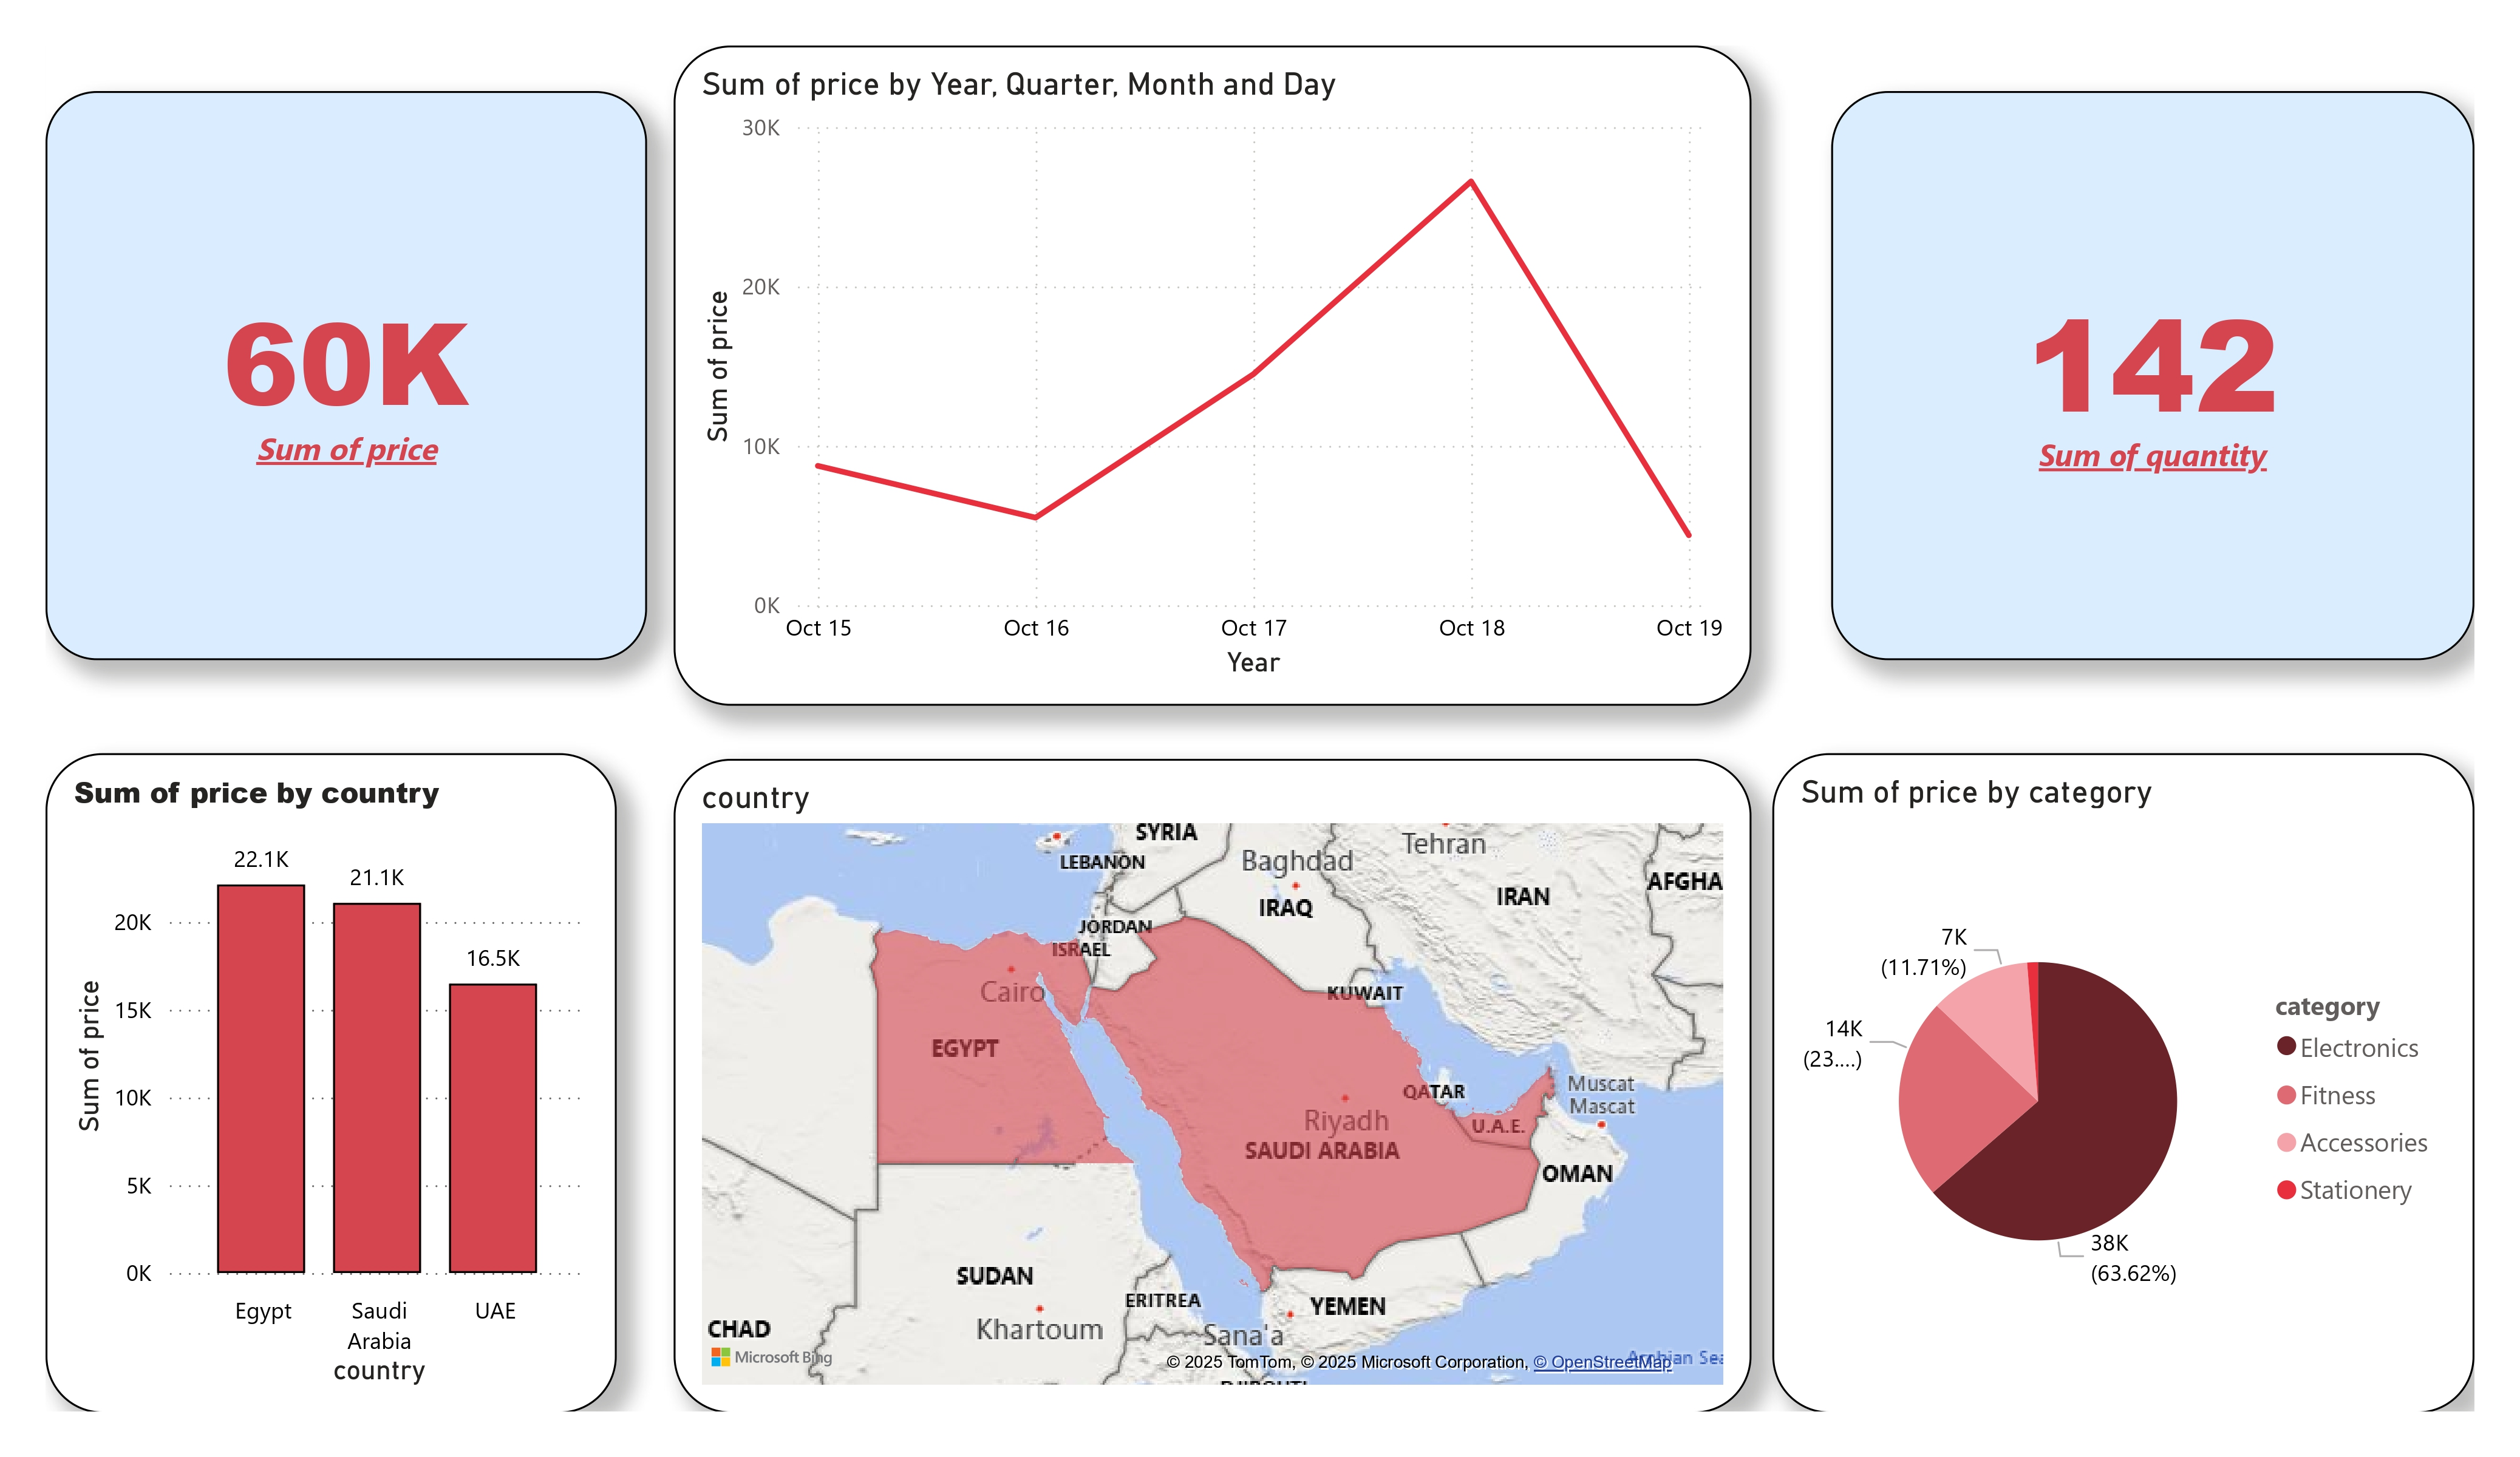

What the dashboard file says about the page in this screenshot:
{"tool":"powerbi","page":{"name":"Page 1","canvas":[1280,720],"ordinal":0},"visuals":[{"type":"filledMap","fields":{"Category":["customers_bronze.country"]},"box":[330.9,376.3,567.8,344.4],"z":0},{"type":"card","fields":{"Values":["Sum(alldata_silver.price)"]},"box":[0,23.5,317.5,300.7],"z":1000},{"type":"card","fields":{"Values":["Sum(alldata_silver.quantity)"]},"box":[940.7,23.5,339.3,300.7],"z":2001},{"type":"clusteredColumnChart","fields":{"Category":["alldata_silver.country"],"Y":["Sum(alldata_silver.price)"]},"box":[0,372.9,300.7,347.7],"z":2004},{"type":"pieChart","fields":{"Category":["alldata_silver.category"],"Y":["Sum(alldata_silver.price)"]},"box":[910.4,372.9,369.6,347.7],"z":2005},{"type":"lineChart","fields":{"Category":["alldata_silver.registration_date.Variation.Date Hierarchy.Year","alldata_silver.registration_date.Variation.Date Hierarchy.Quarter","alldata_silver.registration_date.Variation.Date Hierarchy.Month","alldata_silver.registration_date.Variation.Date Hierarchy.Day"],"Y":["Sum(alldata_silver.price)"]},"box":[330.9,0,567.8,347.7],"z":2006}]}

Visuals, with their boxes on the page's 1280x720 design canvas (x1, y1, x2, y2). These are canvas units, not pixel positions in the 2520x1457 screenshot, which may show the page scaled, cropped or inside an application window:
filledMap - customers_bronze.country: <box>331,376,899,721</box>
card - Sum(alldata_silver.price): <box>0,24,318,324</box>
card - Sum(alldata_silver.quantity): <box>941,24,1280,324</box>
clusteredColumnChart - alldata_silver.country x Sum(alldata_silver.price): <box>0,373,301,721</box>
pieChart - alldata_silver.category x Sum(alldata_silver.price): <box>910,373,1280,721</box>
lineChart - alldata_silver.registration_date.Variation.Date Hierarchy.Year x alldata_silver.registration_date.Variation.Date Hierarchy.Quarter: <box>331,0,899,348</box>
